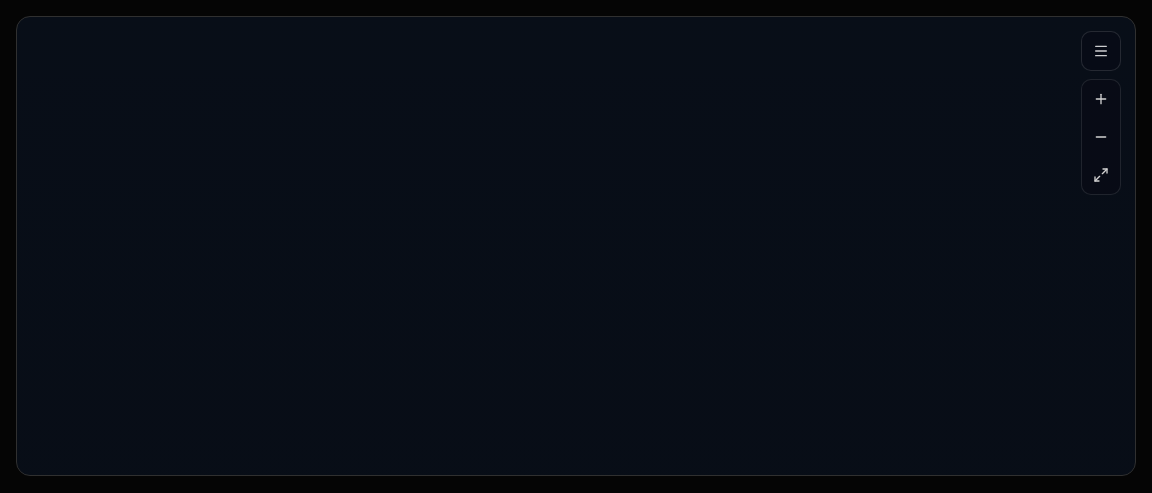
Test: WorldHeatmap in-map menu › opens the info panel from the menu and closes the menu
Click the button named "Map controls". click: (1101, 51)
box: left=1081, top=31, right=1121, bottom=71
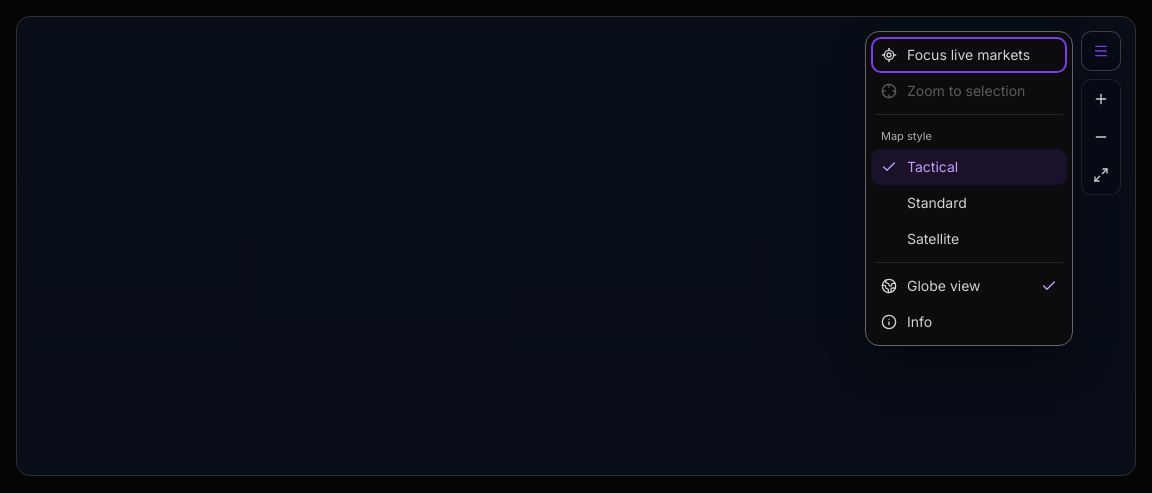
Click the button "Info". click: (969, 322)
box: left=871, top=304, right=1067, bottom=340
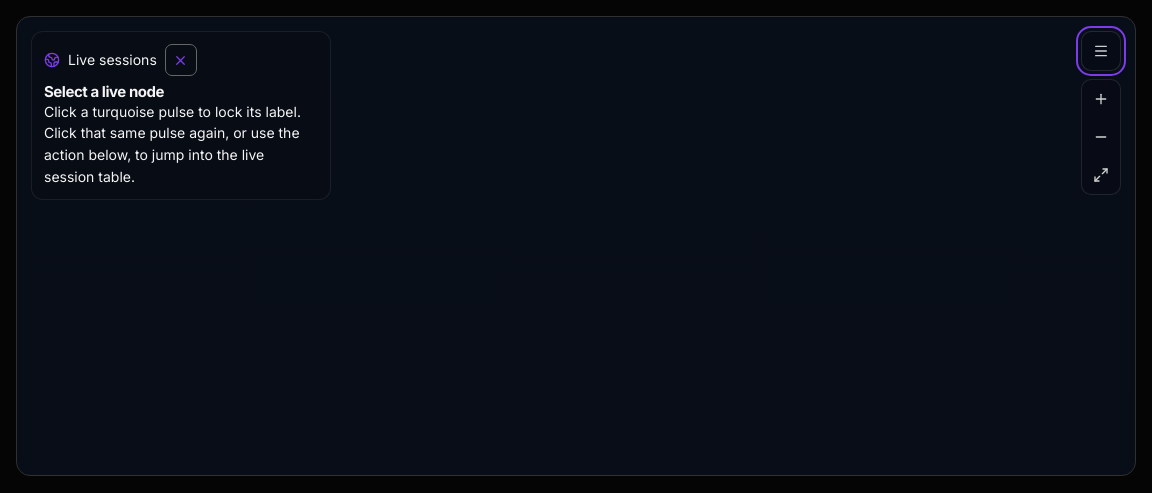
Expected: the element with class "world-heatmap-menu-panel" is gone
Expected: the element with class "world-heatmap-floating-panel" is shown, left=31, top=31, right=331, bottom=200
